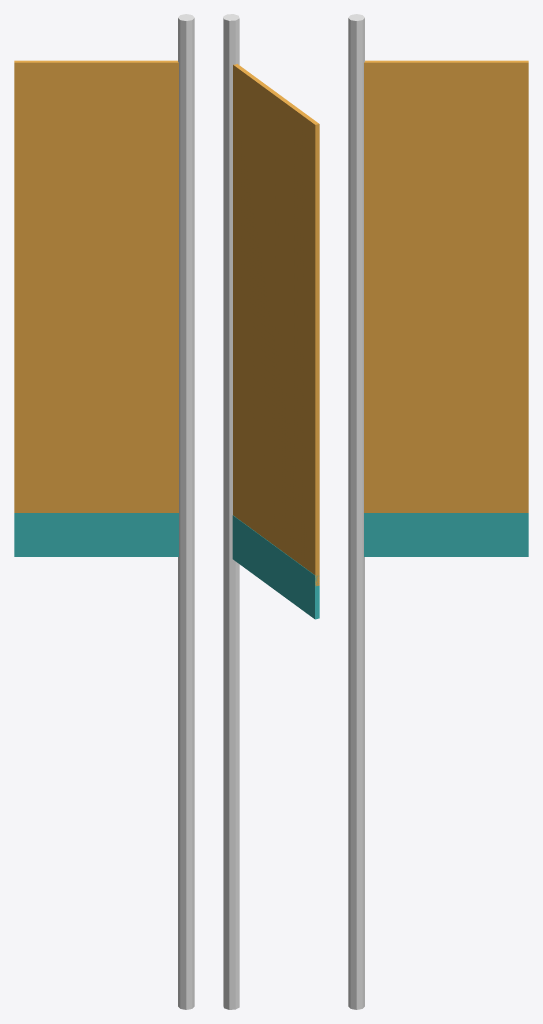
The model's file is festival_flag.glb.
The picture shows the model from 3 angles, left to right: view 1: azimuth 90°, elevation 25°; view 2: azimuth 210°, elevation 25°; view 3: azimuth 270°, elevation 25°; orthographic projection.
Visible parts, largest first — view 1: festival_flag; view 2: festival_flag; view 3: festival_flag.
Boxes of the visible parts, <box> form: festival_flag: <box>14,14,194,1009</box>; festival_flag: <box>223,14,319,1009</box>; festival_flag: <box>348,14,528,1009</box>.
Size of the model in its own units: 0.14 by 9 by 1.49.
